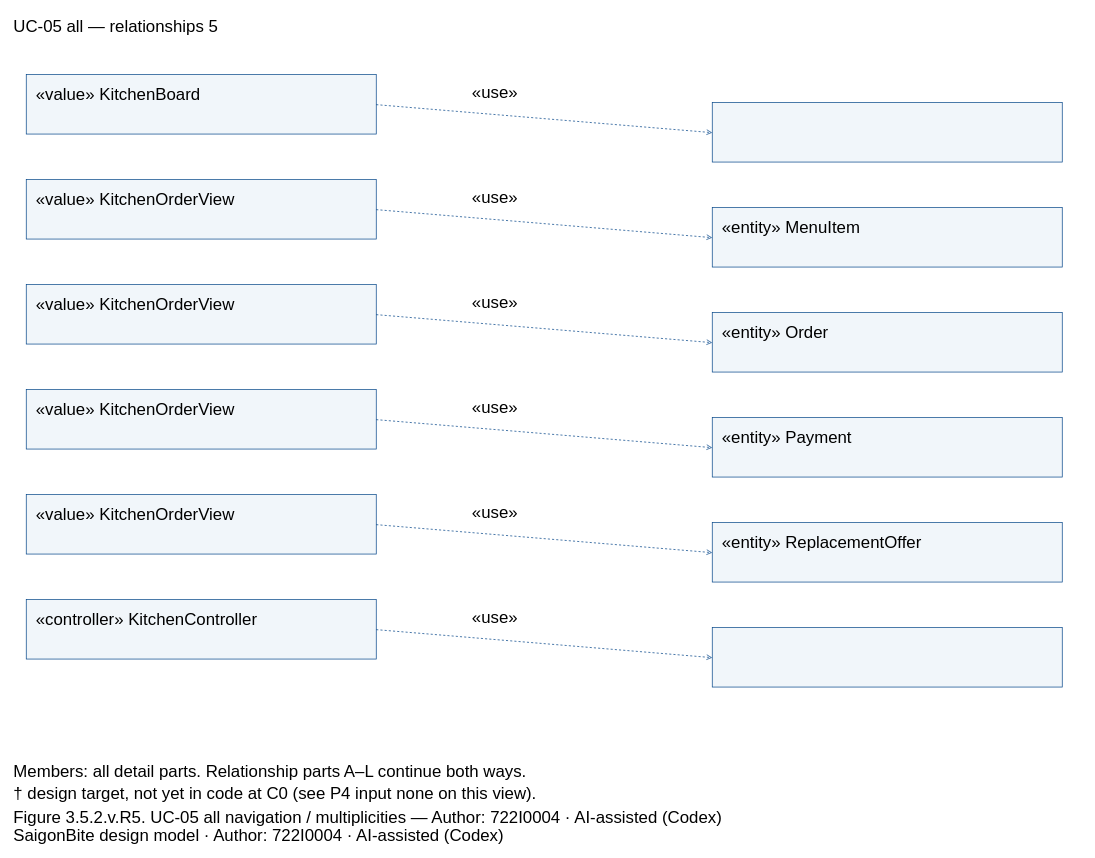
This 1095x858 diagram has some shape labels left out. The shapes that lost their labels are listed below. From the top down, each one's centre as x and y in pixels, then its label:
At (x=887, y=132): "«enumeration» OrderState".
At (x=887, y=657): "«DAO» DeliveryDAO".
